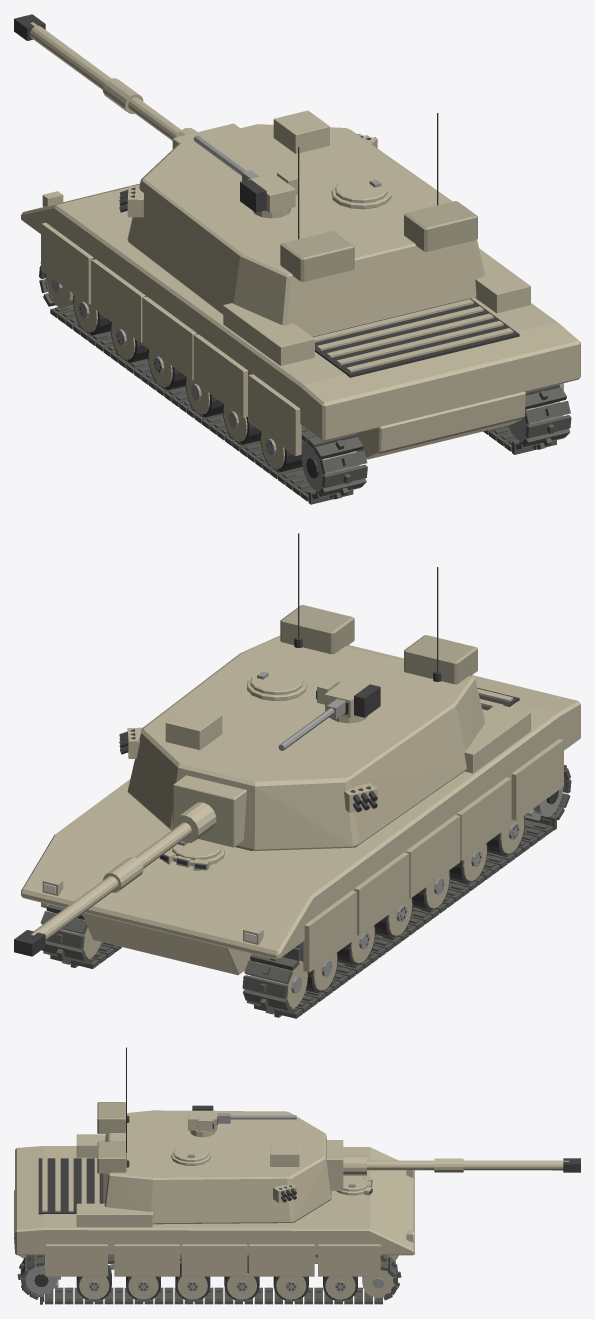
The model's file is usa_lt_m10.glb.
3 renders of one model, top to bottom at view 1: azimuth 30°, elevation 25°; view 2: azimuth 150°, elevation 25°; view 3: azimuth 270°, elevation 25°, orthographic. The views are drawn at different scales.
Parts seen in each view (by area): view 1: body, turret, barrel; view 2: body, turret, barrel; view 3: body, turret, barrel.
Boxes of the visible parts, left/top/right/bottom form: body: left=21, top=183, right=580, bottom=504; turret: left=119, top=110, right=485, bottom=336; barrel: left=14, top=14, right=197, bottom=140; body: left=21, top=645, right=580, bottom=1018; turret: left=119, top=533, right=485, bottom=850; barrel: left=14, top=802, right=216, bottom=956; body: left=14, top=1134, right=414, bottom=1304; turret: left=97, top=1047, right=343, bottom=1224; barrel: left=343, top=1155, right=580, bottom=1175.
Bounding box in the file's own units: 3.48 × 3.73 × 9.67.
